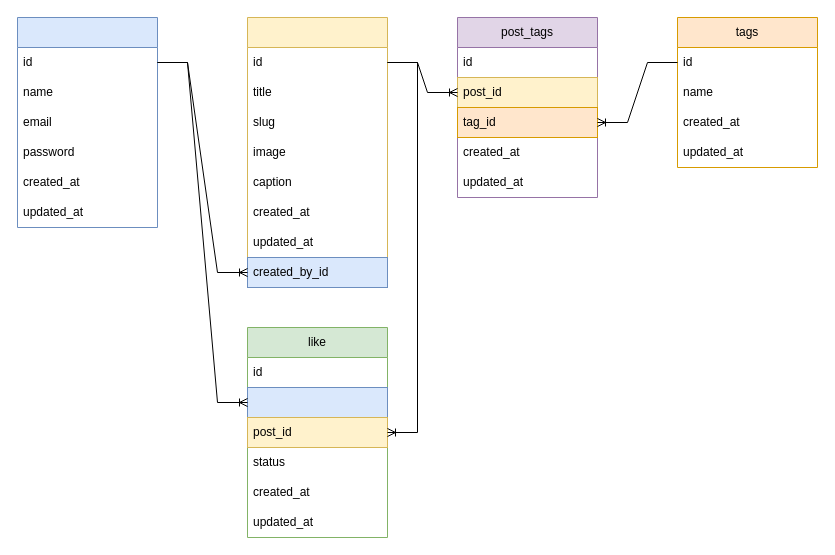
The diagram is 835 pixels wide and 555 high, and some of its shapes have lost their labels. Here are the shapes that lost their labels. From the top down, the box of each, then its label:
(16, 16, 158, 228): users
(246, 16, 388, 288): post
(246, 386, 388, 418): user_id
